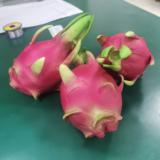pitaya: (9, 13, 94, 100), (60, 50, 124, 141), (97, 31, 154, 86)
